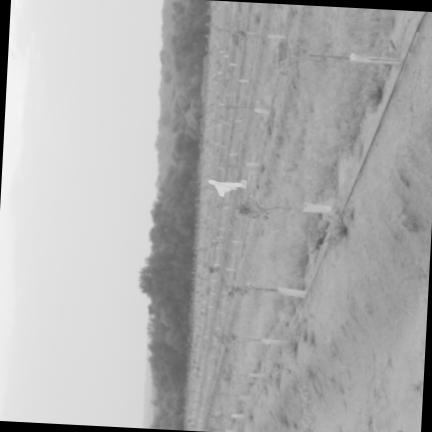Shahed: (208, 179, 246, 195)
